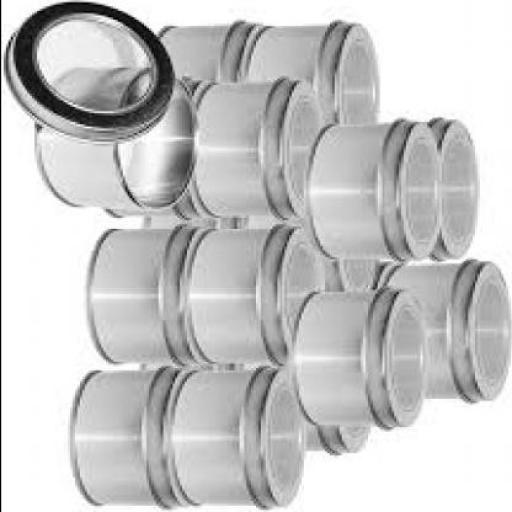metal: (4, 2, 174, 144), (33, 70, 201, 211), (164, 370, 305, 510), (378, 262, 511, 406), (181, 230, 316, 364), (196, 82, 326, 220), (310, 126, 438, 264), (300, 292, 424, 430), (74, 372, 183, 510), (90, 231, 198, 366), (240, 26, 378, 128), (236, 220, 378, 292), (159, 28, 258, 116), (422, 122, 480, 262), (319, 262, 381, 296), (305, 427, 367, 455)
